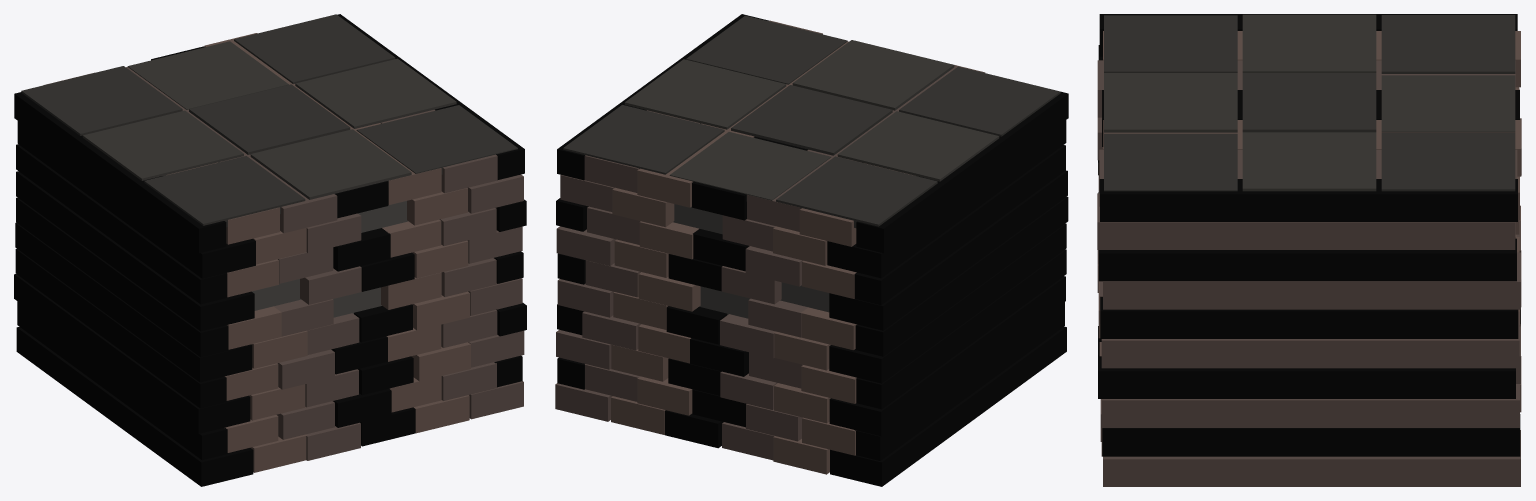
File: wall_brick_c.glb
3 views of the same model, side by side, from view 1: azimuth 30°, elevation 25°; view 2: azimuth 150°, elevation 25°; view 3: azimuth 270°, elevation 25° (orthographic). The views are drawn at different scales.
Visible parts, largest first — view 1: WallBrick; view 2: WallBrick; view 3: WallBrick.
Boxes of the visible parts, <box> form: WallBrick: <box>14,14,526,486</box>; WallBrick: <box>555,14,1068,486</box>; WallBrick: <box>1097,14,1521,486</box>.
Bounding box in the file's own units: 3.95 × 3.02 × 3.92.
